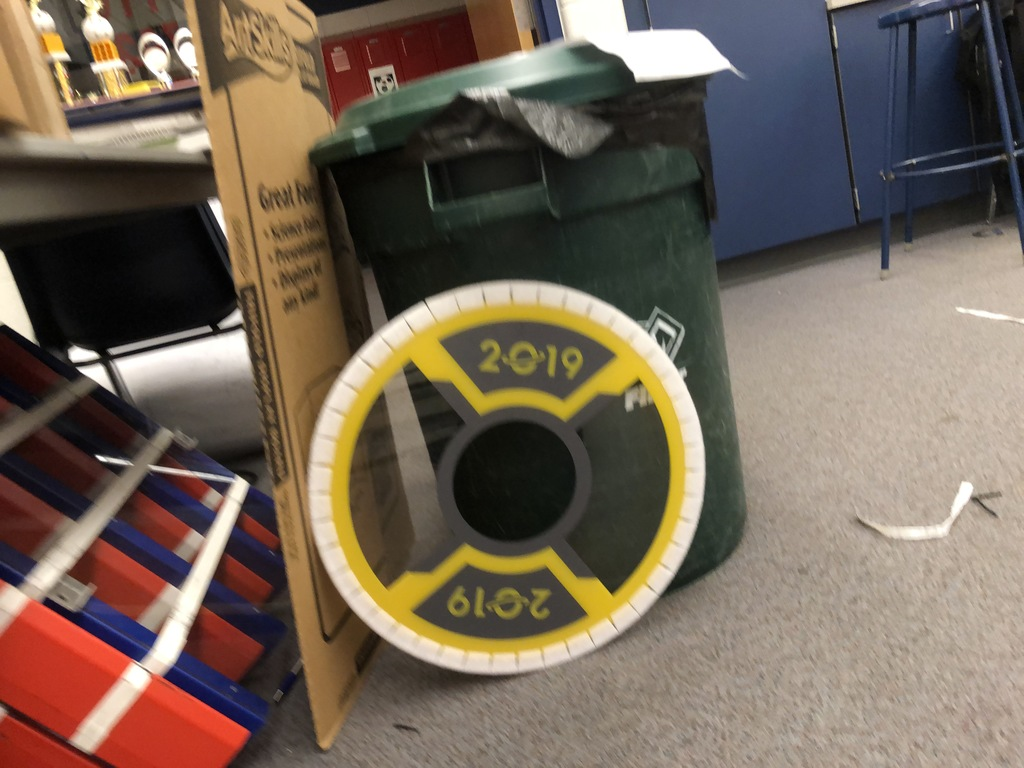hatch_panel: (303, 266, 732, 685)
